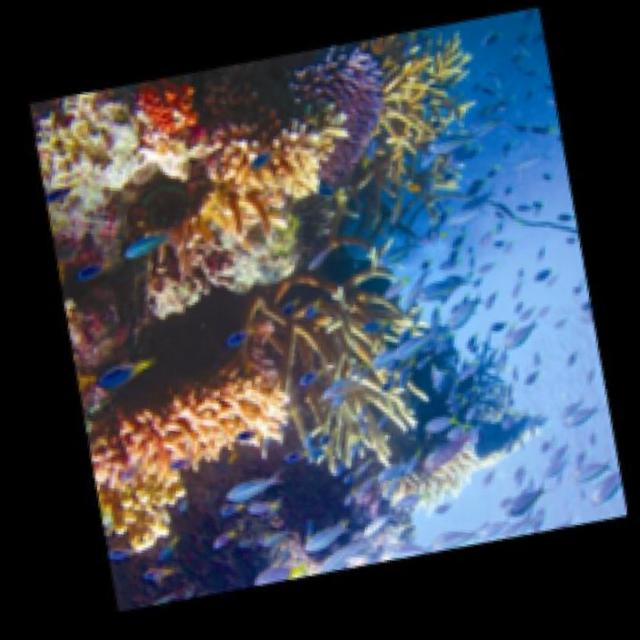Bleached Coral: (384, 434, 489, 528)
Healthy Coral: (70, 316, 309, 563), (177, 81, 353, 282), (263, 277, 423, 488), (279, 36, 407, 211), (369, 50, 494, 196), (115, 70, 214, 161)
